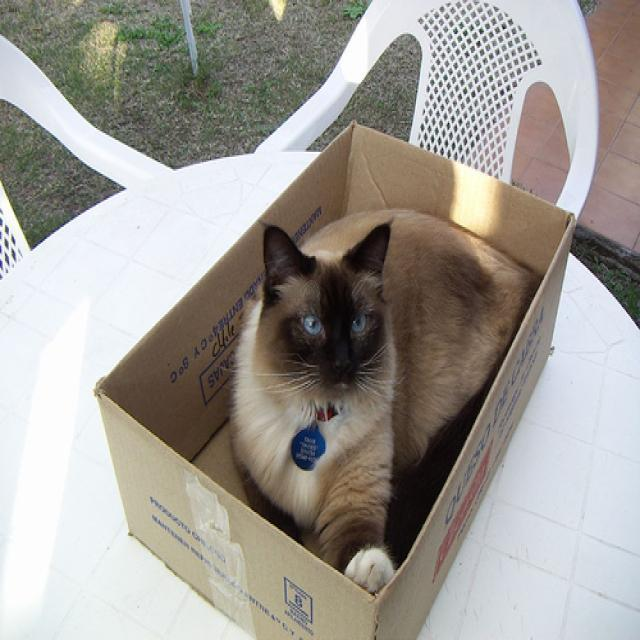Birman: (257, 217, 403, 473)
